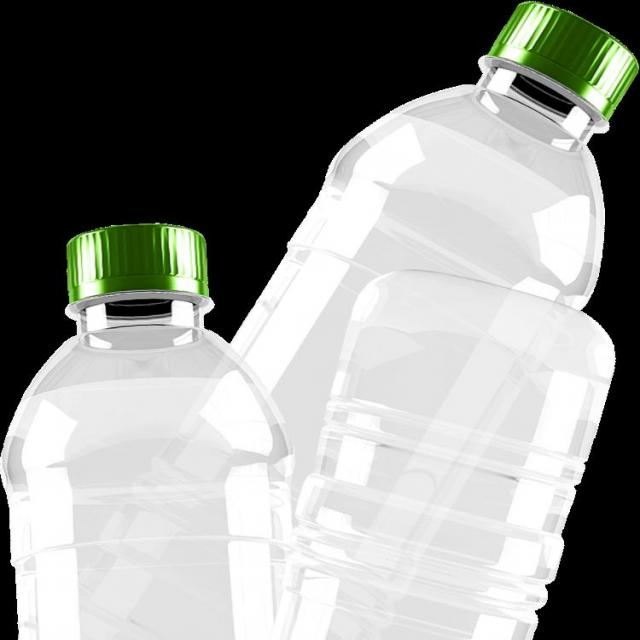plastic_bottle: (147, 6, 640, 617), (20, 223, 273, 639), (349, 273, 581, 633)
